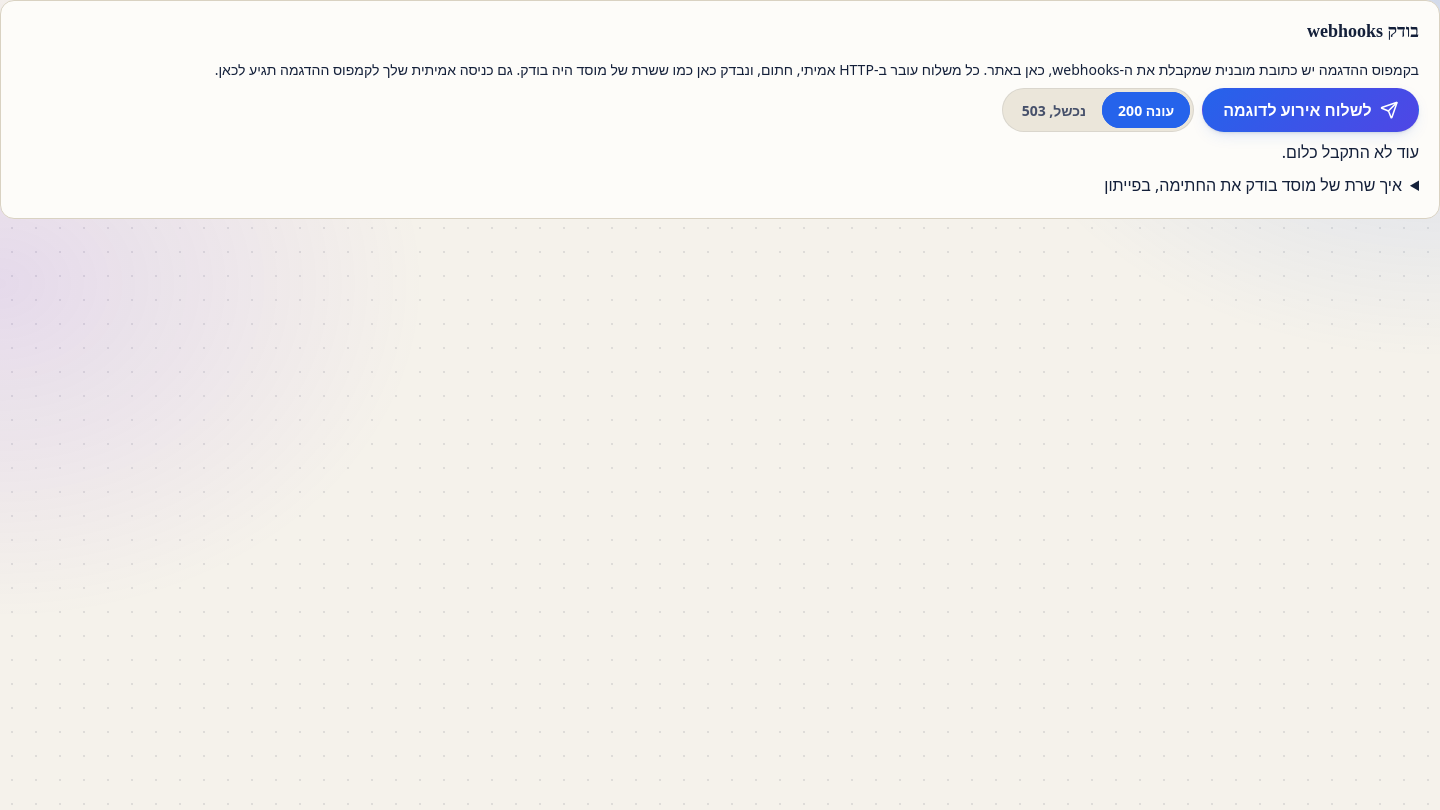
Scenario: WebhookTester › sends a sample and shows what arrived, with the signature checked
The width and height of the screenshot is (1440, 810).
Expected: the list item "עוד לא התקבל כלום." is shown, [1282,141,1419,163]
Click the button "לשלוח אירוע לדוגמה".
click(1311, 110)  # box [1202,88,1419,132]
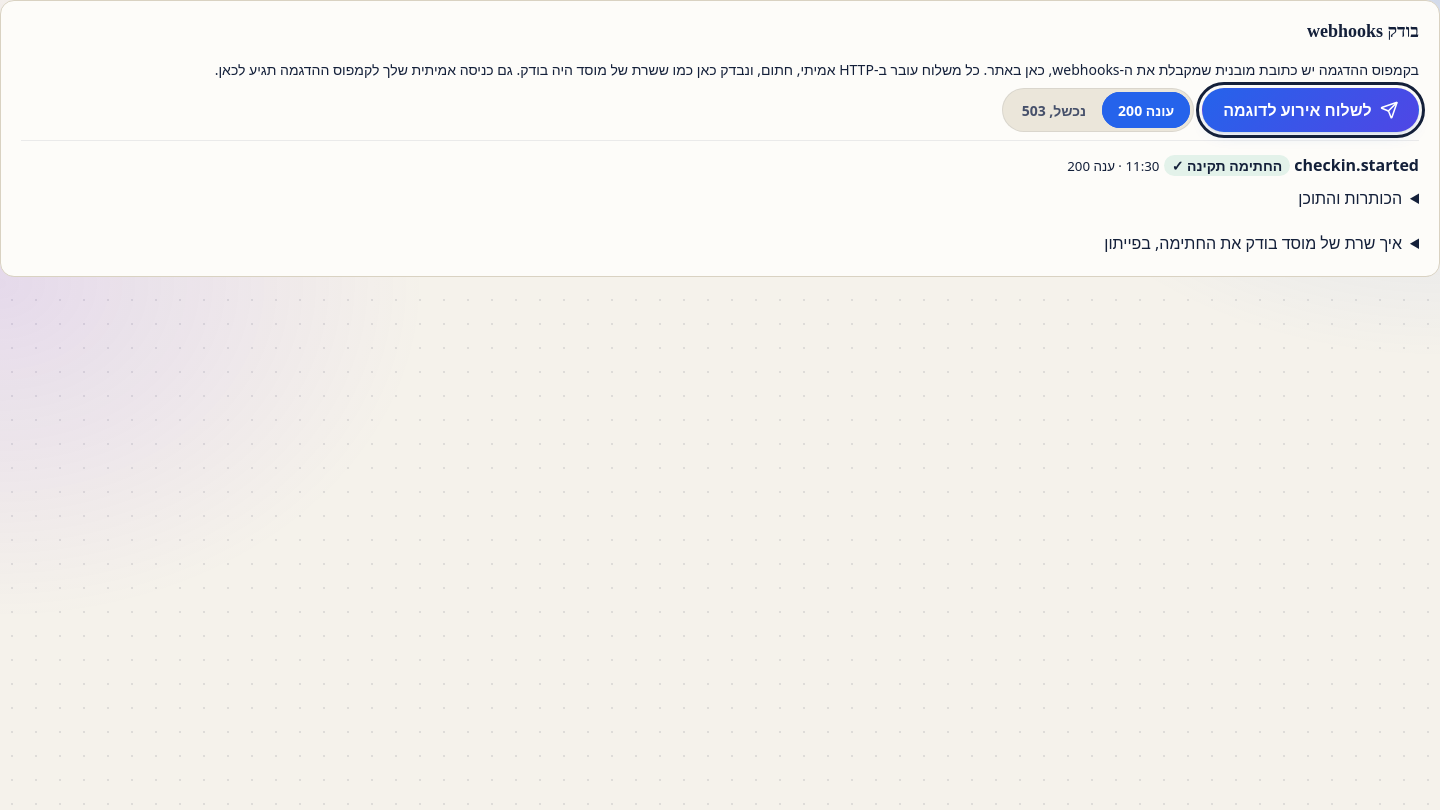
Now the text "החתימה תקינה ✓" is shown, box [1164,155,1290,176]
Now the text "11:30 · ענה 200" is shown, box [1067,157,1160,175]
